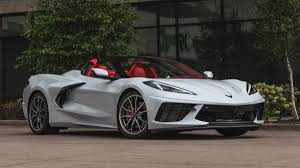car: (20, 54, 272, 145)
